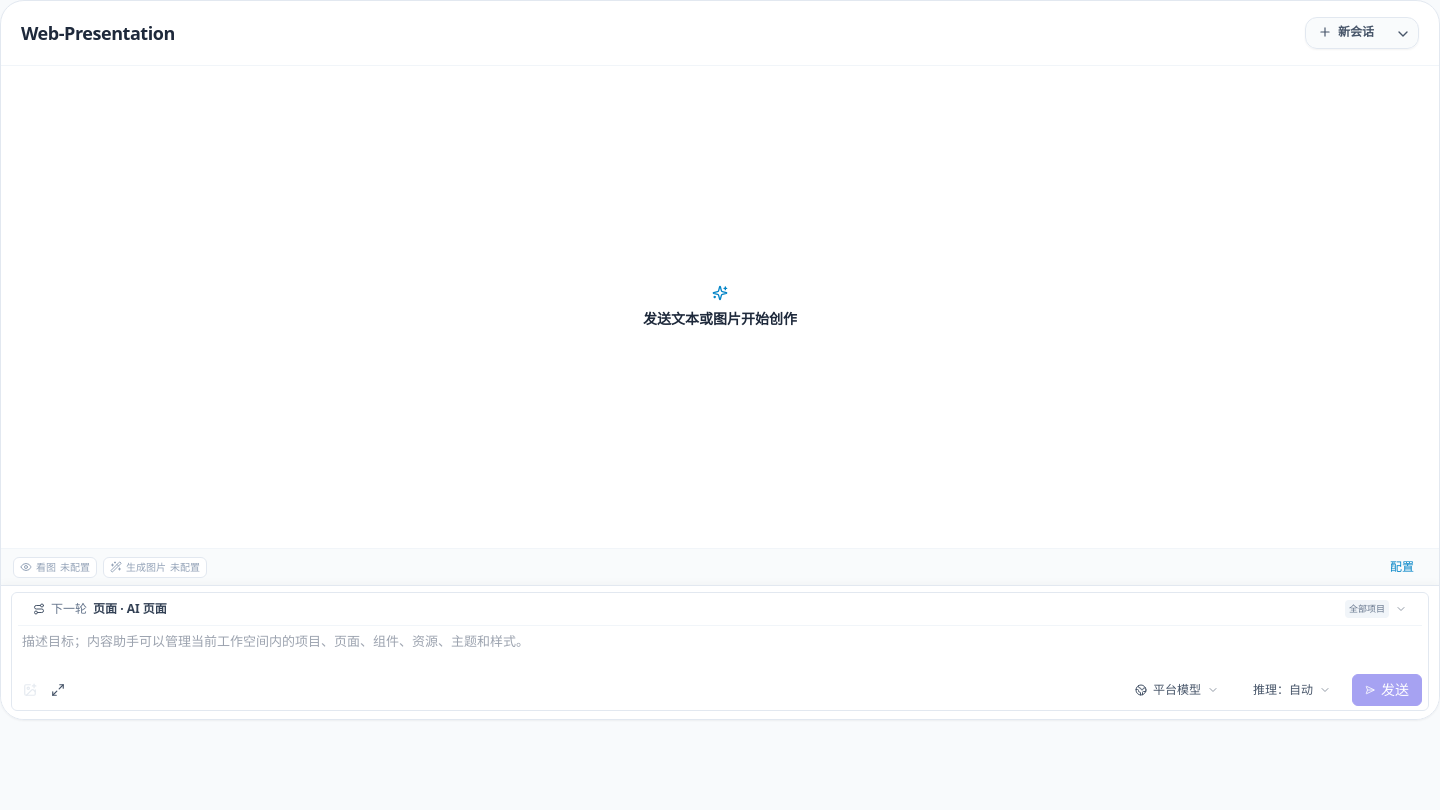
Scenario: AgentConversationPanel › 页面写回冲突时应展示内联错误说明
In the text box with placeholder "描述目标；内容助手可以管理当前工作空间内的项目、页面、组件、资源、主题和样式。": x=720, y=648 top-left (18, 630), bottom-right (1422, 666), type "帮我优化一下页面"
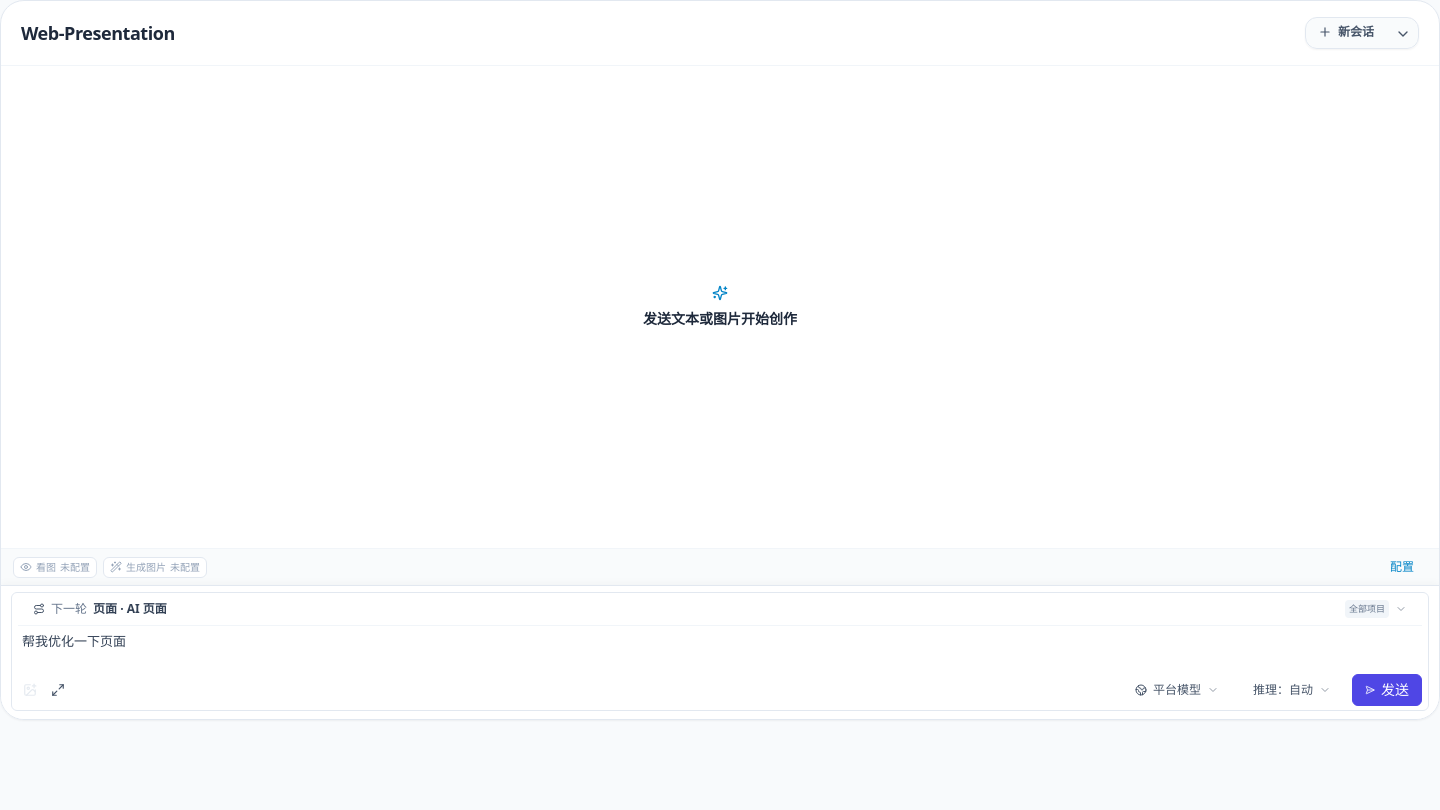
Click the button "发送": x=1387, y=690 top-left (1352, 674), bottom-right (1422, 706)
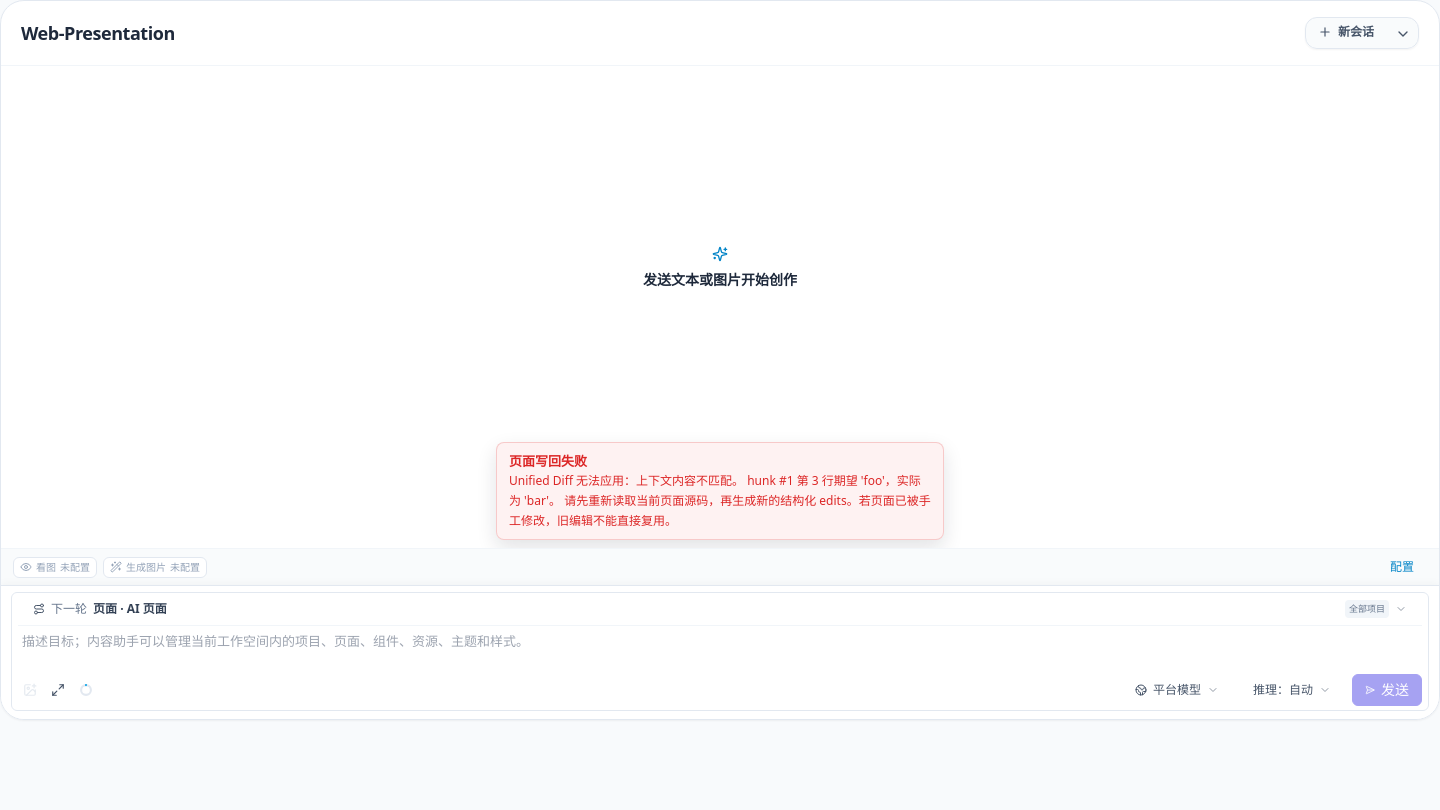
Result: the text "页面写回失败" is shown at top-left (509, 452), bottom-right (587, 470)
Result: the text "请先重新读取当前页面源码" is shown at top-left (509, 472), bottom-right (931, 529)
